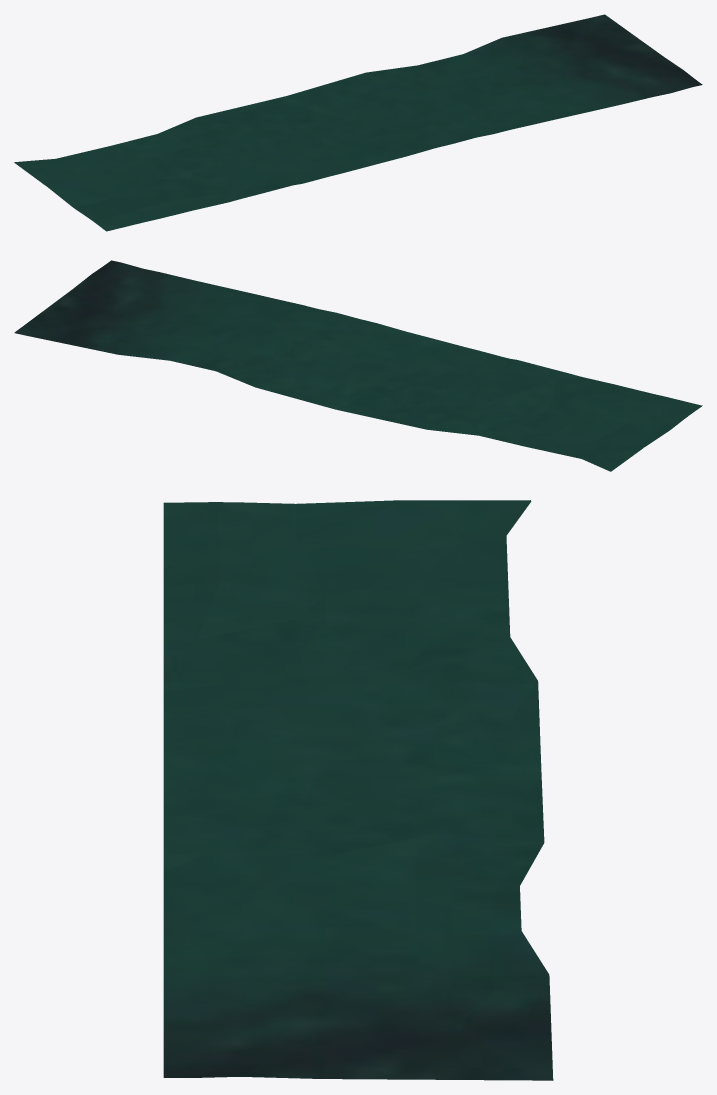
3 views of the same model, one above another, from view 1: azimuth 30°, elevation 25°; view 2: azimuth 150°, elevation 25°; view 3: azimuth 270°, elevation 25° (orthographic). The views are drawn at different scales.
Size of the model in its own units: 52.22 by 0.4177 by 14.89.
Materials: 1 (1 with a texture image).
